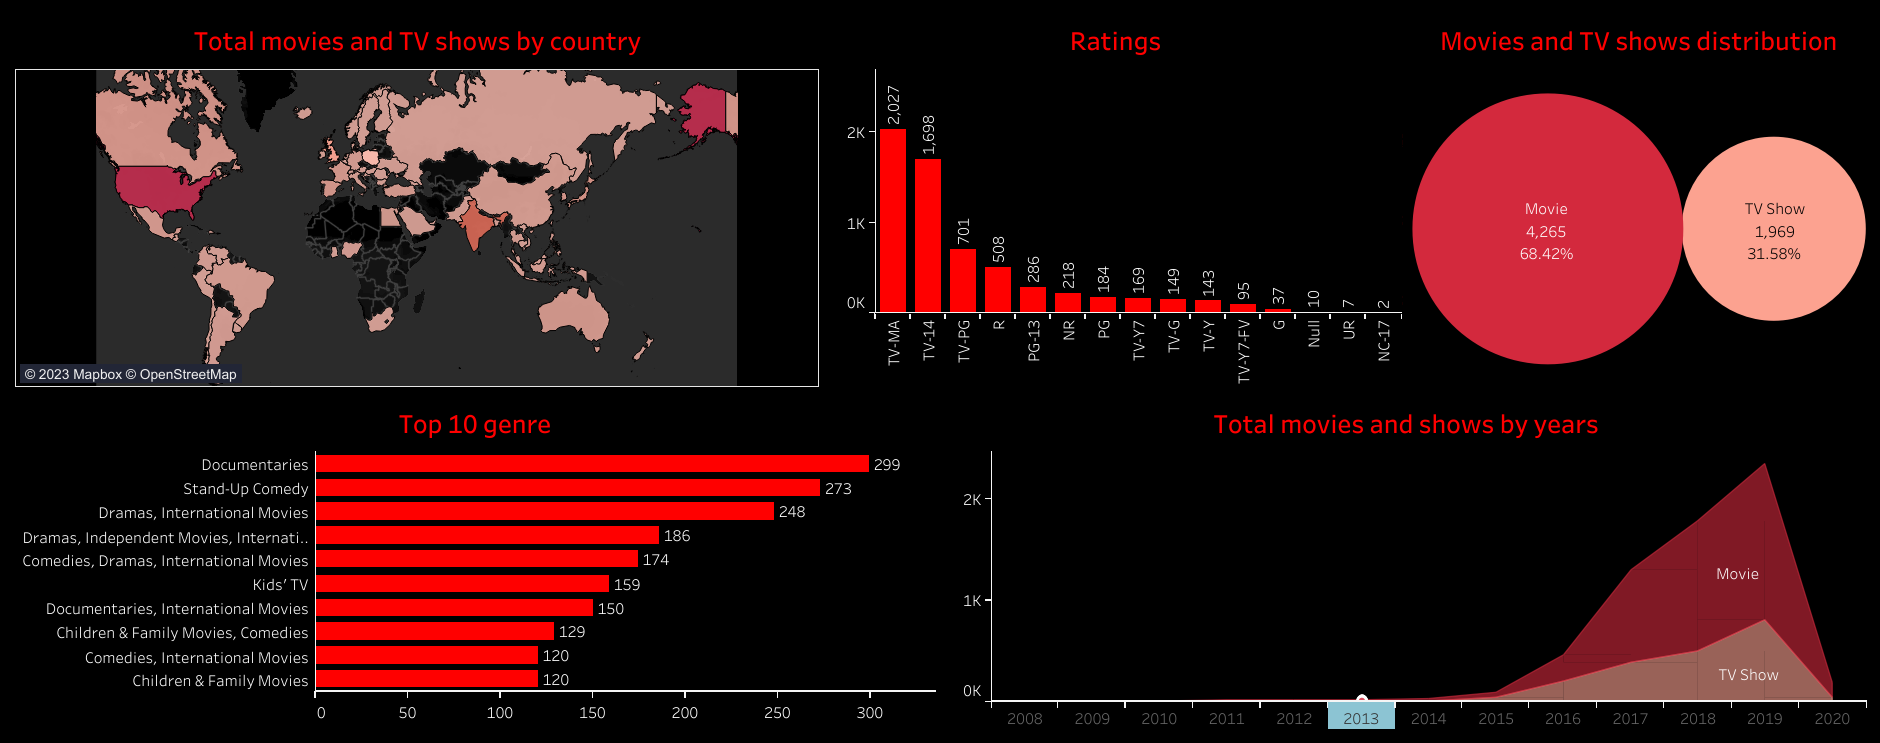

What the dashboard file says about the page in this screenshot:
{"tool":"tableau","page":{"name":"Dashboard 1","canvas":[1000,1000],"units":"permille","ordinal":0},"visuals":[{"type":"worksheet","title":"Sheet 2","mark":"Multipolygon","box":[4.8,9.4,433.9,519.4]},{"type":"worksheet","title":"Sheet 5","mark":"Automatic","rows":["show_id"],"cols":["rating"],"box":[438.7,9.4,308.9,519.4]},{"type":"worksheet","title":"Sheet 4","mark":"Circle","box":[747.6,9.4,247.6,519.4]},{"type":"worksheet","title":"Sheet 3","mark":"Automatic","rows":["listed_in"],"cols":["show_id"],"box":[4.8,528.8,495.2,461.8]},{"type":"worksheet","title":"Sheet 1","mark":"Area","rows":["show_id"],"cols":["date_added"],"box":[500,528.8,495.2,461.8]}]}

Visuals, with their boxes on the dashboard's canvas, which has no fixed pixel size, in thousandths of its width and height (x1, y1, x2, y2). These are canvas units, not pixel positions in the 1880x743 screenshot, which may show the page scaled, cropped or inside an application window:
"Sheet 2" worksheet (Multipolygon marks): (5, 9, 439, 529)
"Sheet 5" worksheet: (439, 9, 748, 529)
"Sheet 4" worksheet (Circle marks): (748, 9, 995, 529)
"Sheet 3" worksheet: (5, 529, 500, 991)
"Sheet 1" worksheet (Area marks): (500, 529, 995, 991)
